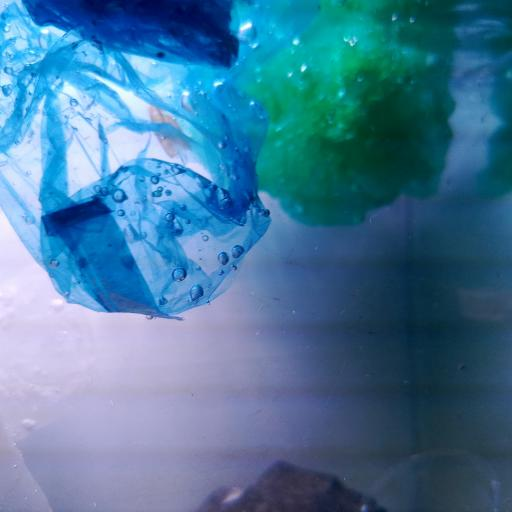plastic_bag: (2, 0, 270, 324), (239, 0, 461, 232)
plastic_cup: (357, 447, 512, 512)
